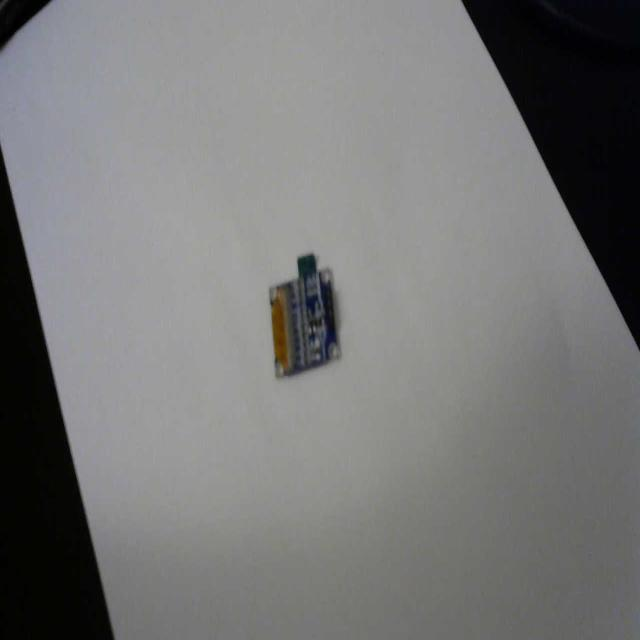oled: (266, 248, 342, 378)
